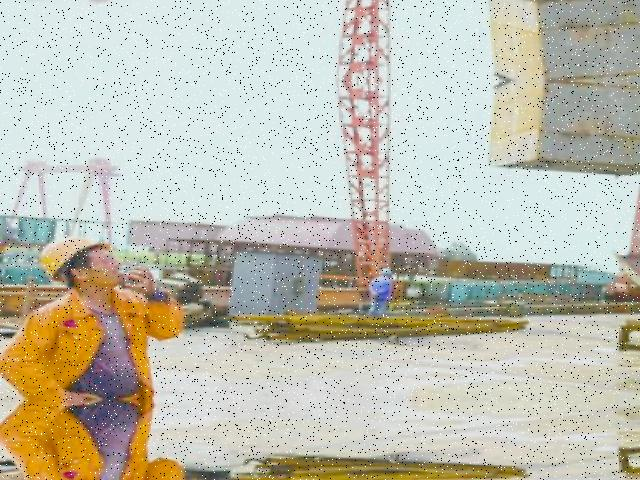Helmet: (38, 230, 117, 284)
